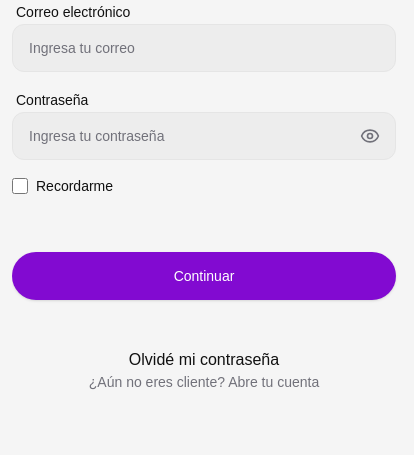
Test case: Login (sin 2FA) — Pruebas de integración (tabla de caminos Frontend↔Backend) › Camino 1,2,3,17,F — datos inválidos en el formulario del cliente › no realiza ninguna petición de red y muestra errores inline de validación
This screenshot has width=414, height=455.
Click the button "Continuar".
click(204, 276)  # box [12,252,396,300]
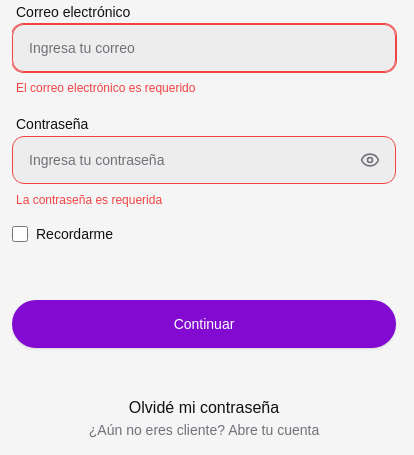
expect the text "El correo electrónico es requerido" is shown: met, box [16,81,195,95]
